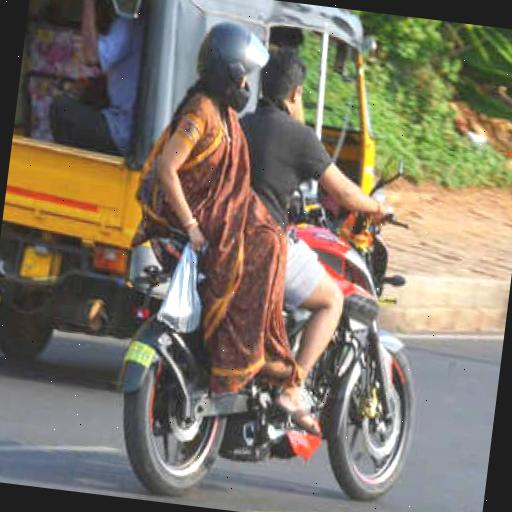no helmet: (207, 23, 442, 512)
